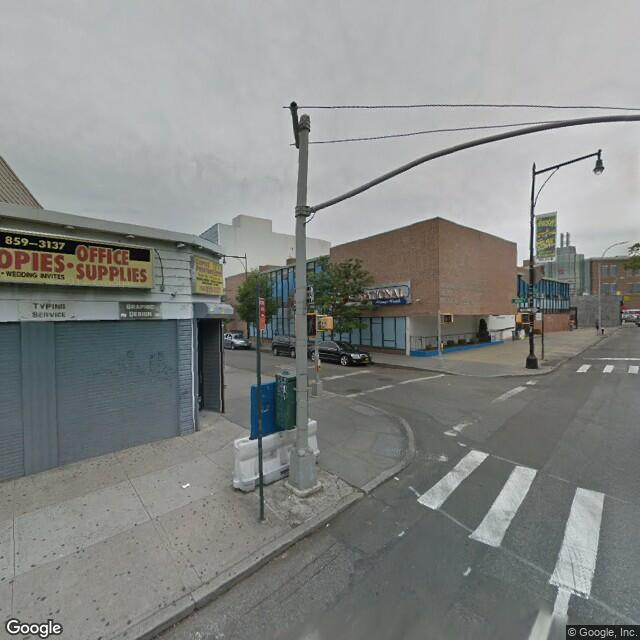litter: (176, 481, 194, 490), (321, 519, 335, 530), (390, 473, 403, 484)
